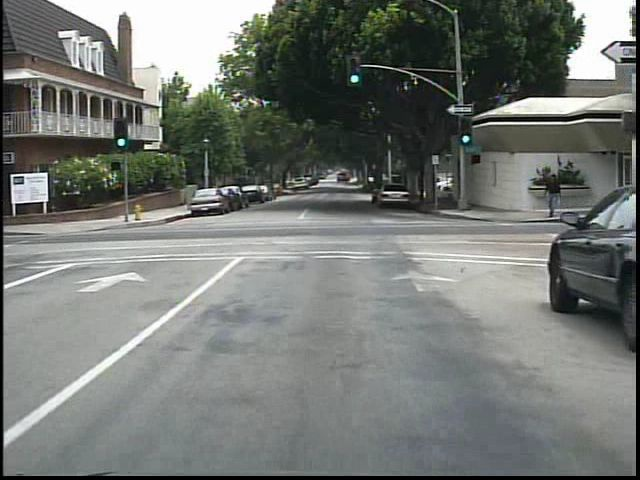person: (536, 170, 566, 222)
